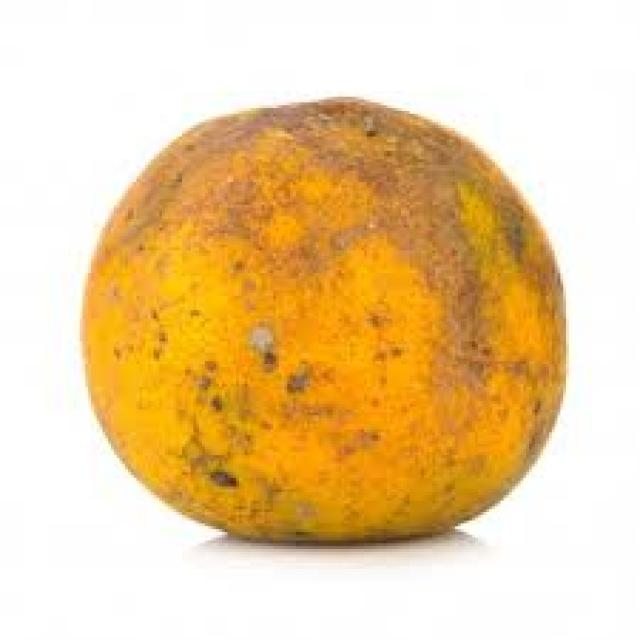food_waste: (85, 100, 560, 538)
